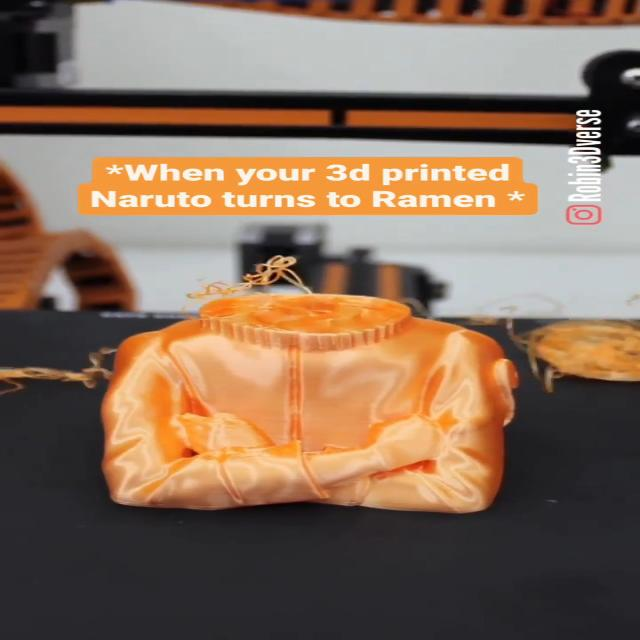spaghetti: (462, 285, 640, 426), (176, 247, 345, 306), (3, 348, 137, 400)
